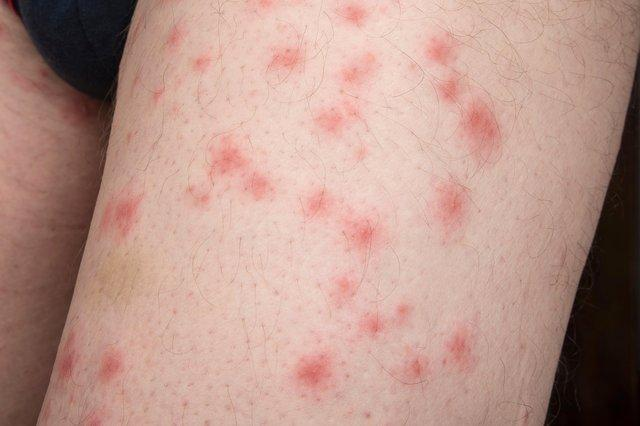Fleas: (327, 207, 394, 277), (448, 98, 513, 165), (436, 323, 488, 378), (98, 187, 142, 239), (435, 177, 470, 235), (202, 140, 247, 182), (294, 356, 337, 399), (389, 347, 432, 390), (50, 331, 87, 380), (431, 70, 472, 112), (264, 42, 308, 78), (422, 29, 461, 69), (313, 103, 361, 135), (355, 309, 393, 345), (328, 271, 361, 310), (240, 171, 277, 202), (183, 180, 217, 212), (341, 55, 373, 87), (158, 22, 189, 51), (302, 188, 331, 217), (97, 350, 124, 381), (390, 300, 414, 323)
